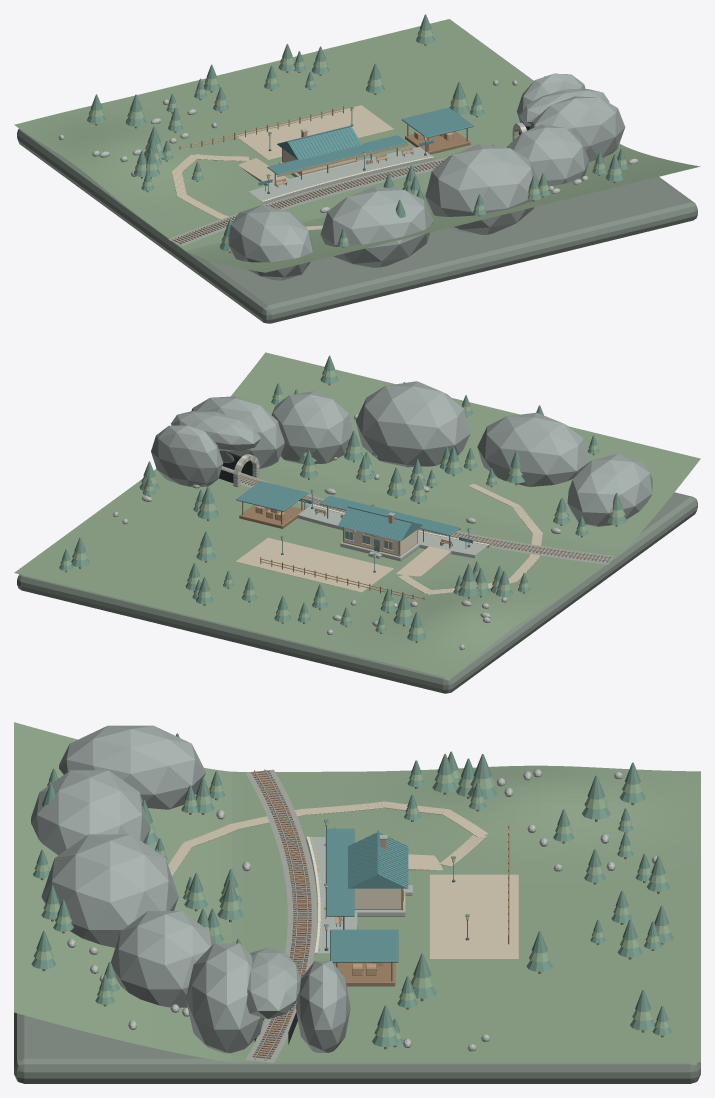
The model's file is AlderPass_UV.fbx.
3 renders of one model, top to bottom at view 1: azimuth 30°, elevation 25°; view 2: azimuth 150°, elevation 25°; view 3: azimuth 270°, elevation 25°, orthographic. The views are drawn at different scales.
Visible parts, largest first — view 1: 100m sculpted hillside; view 2: 100m sculpted hillside; view 3: 100m sculpted hillside.
Boxes of the visible parts, x1=… form: 100m sculpted hillside: x1=14, y1=14, x2=700, y2=323; 100m sculpted hillside: x1=14, y1=352, x2=700, y2=693; 100m sculpted hillside: x1=14, y1=722, x2=700, y2=1083.
Bounding box in the file's own units: 10104 × 10000 × 2012.
